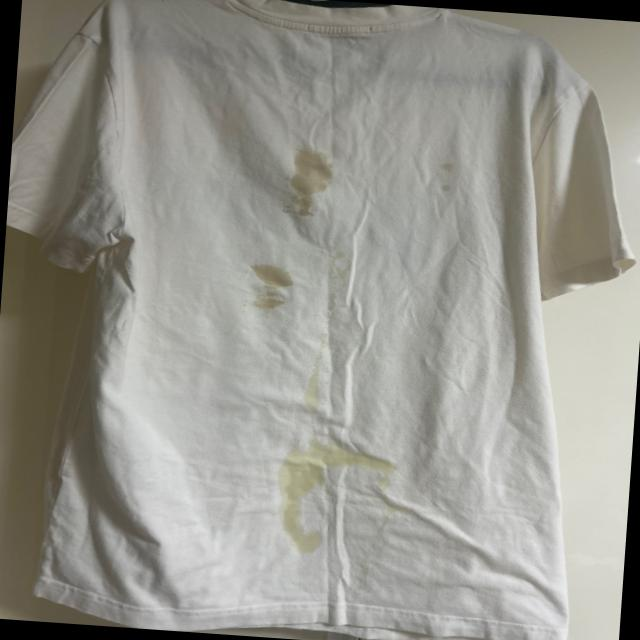stain: (276, 445, 328, 554), (286, 145, 336, 226), (318, 430, 400, 478), (244, 262, 290, 308), (302, 356, 341, 409), (438, 161, 462, 195)
